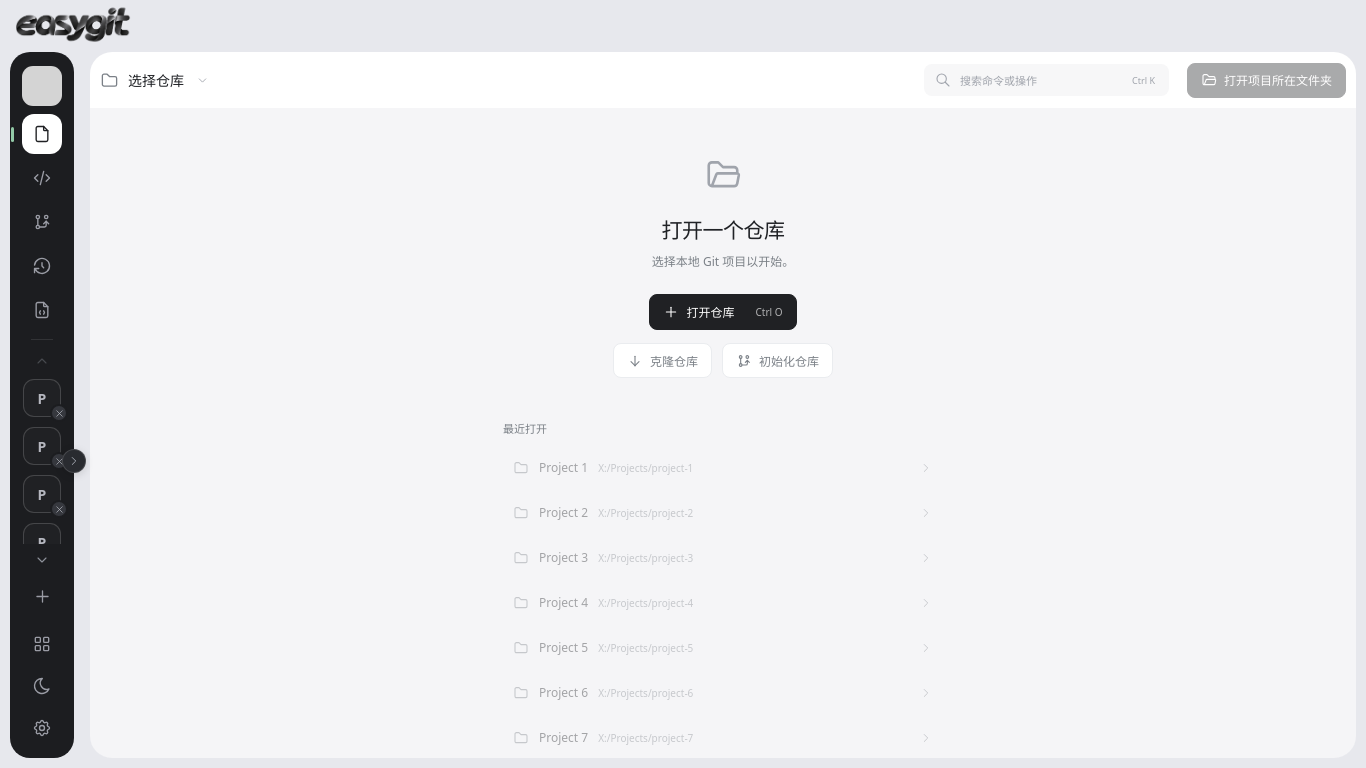
Test: 侧栏项目展开区域 › 支持 Escape、外部点击和重复点击按钮收起
Click the button named "展开项目列表": {"x": 74, "y": 460} [62, 448, 86, 472]
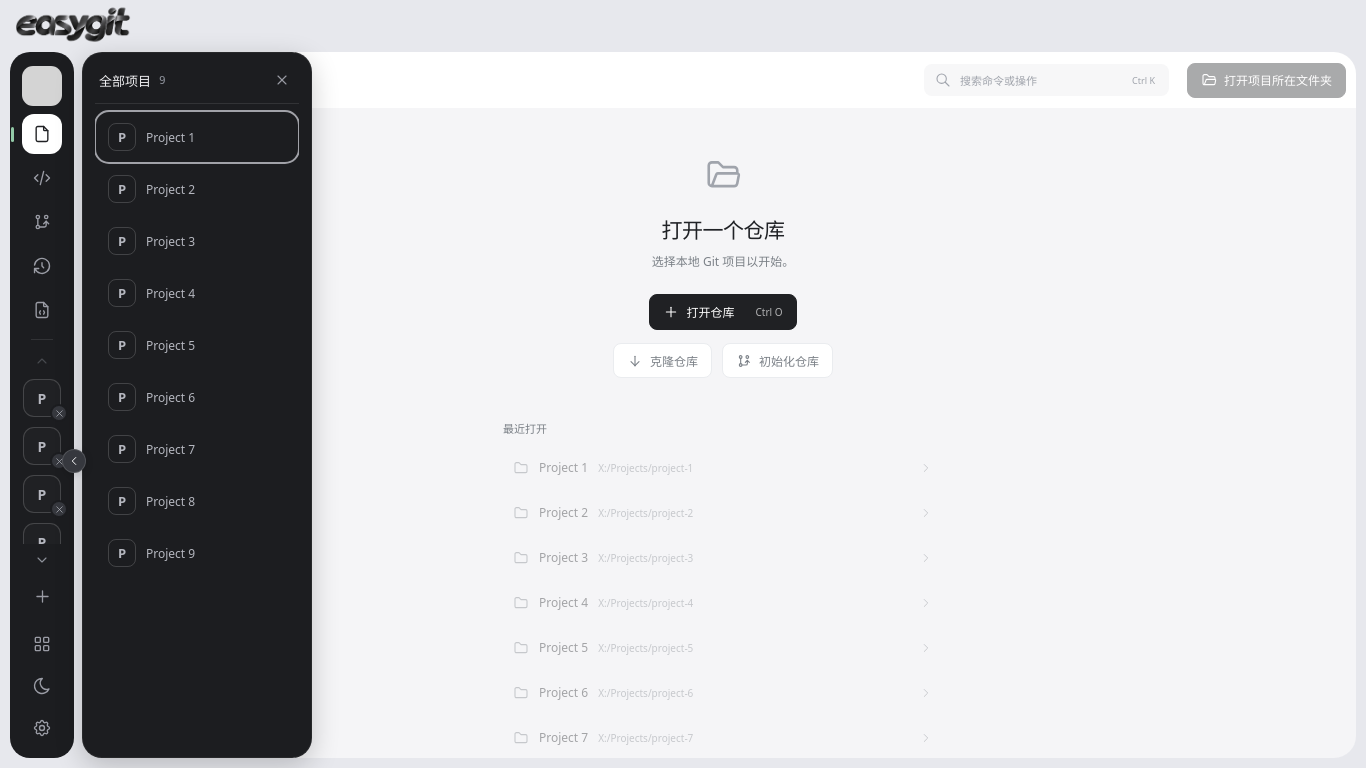
Press Escape in the button with class "repository-expanded-item" showing "P Project 1", box [98, 114, 296, 160]
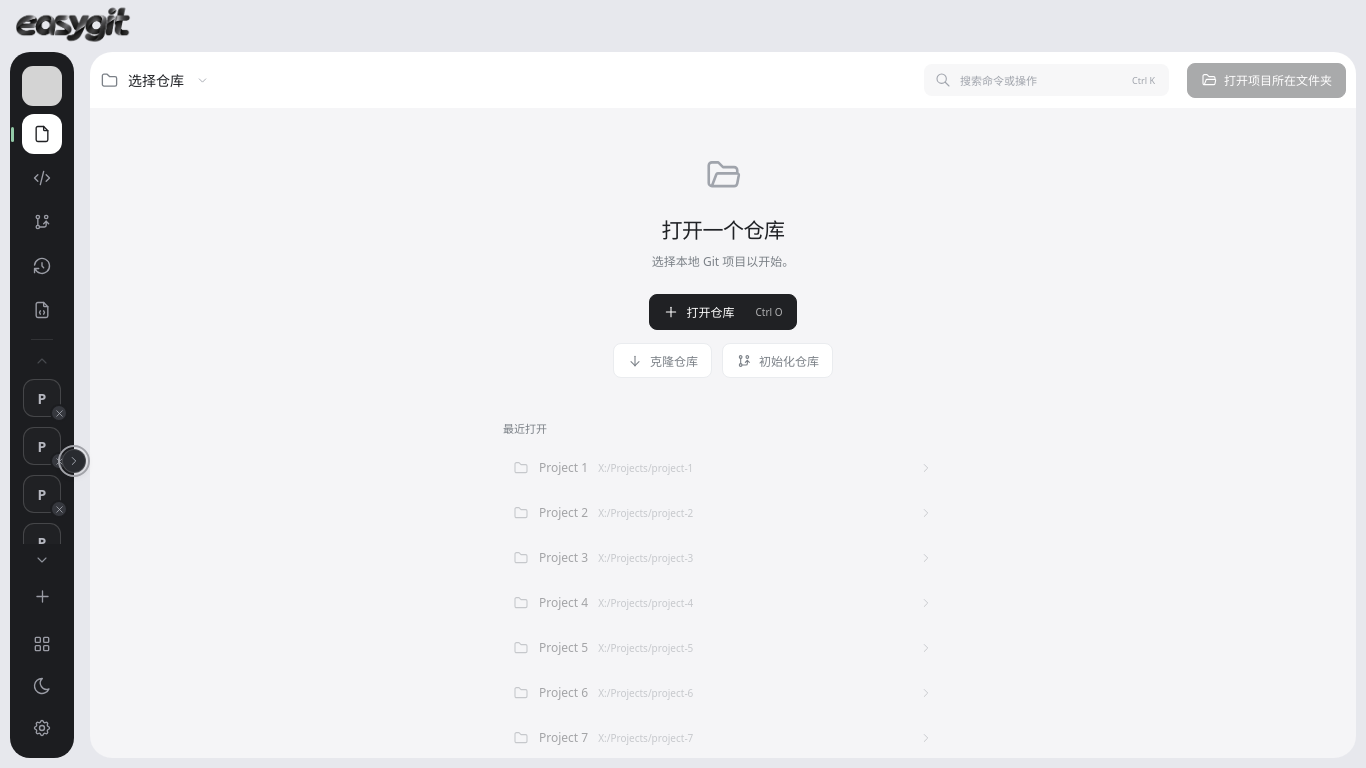
Expected: the element named "项目展开区域" is gone
Click the button named "展开项目列表": {"x": 74, "y": 460} [62, 448, 86, 472]
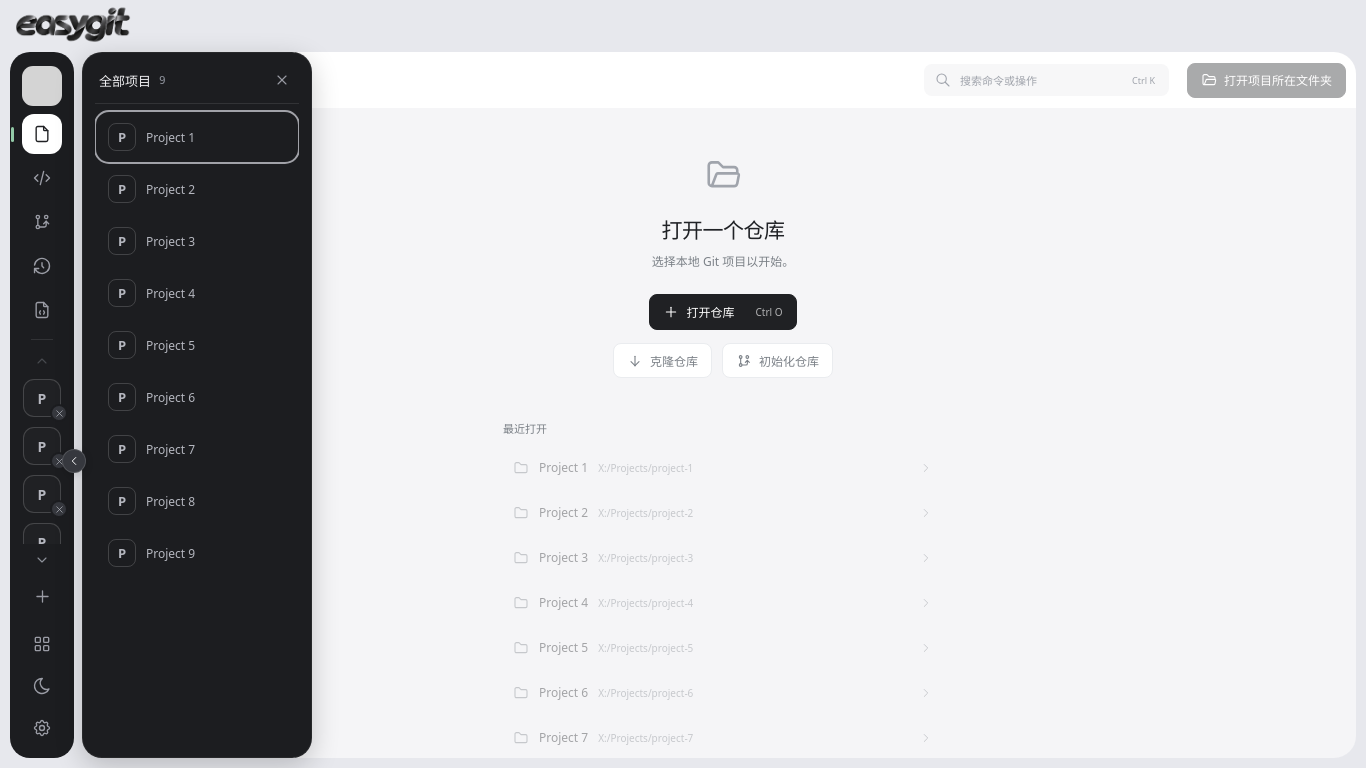
Press the mouse on the element with class "main-scroll": {"x": 723, "y": 405} [90, 52, 1356, 758]
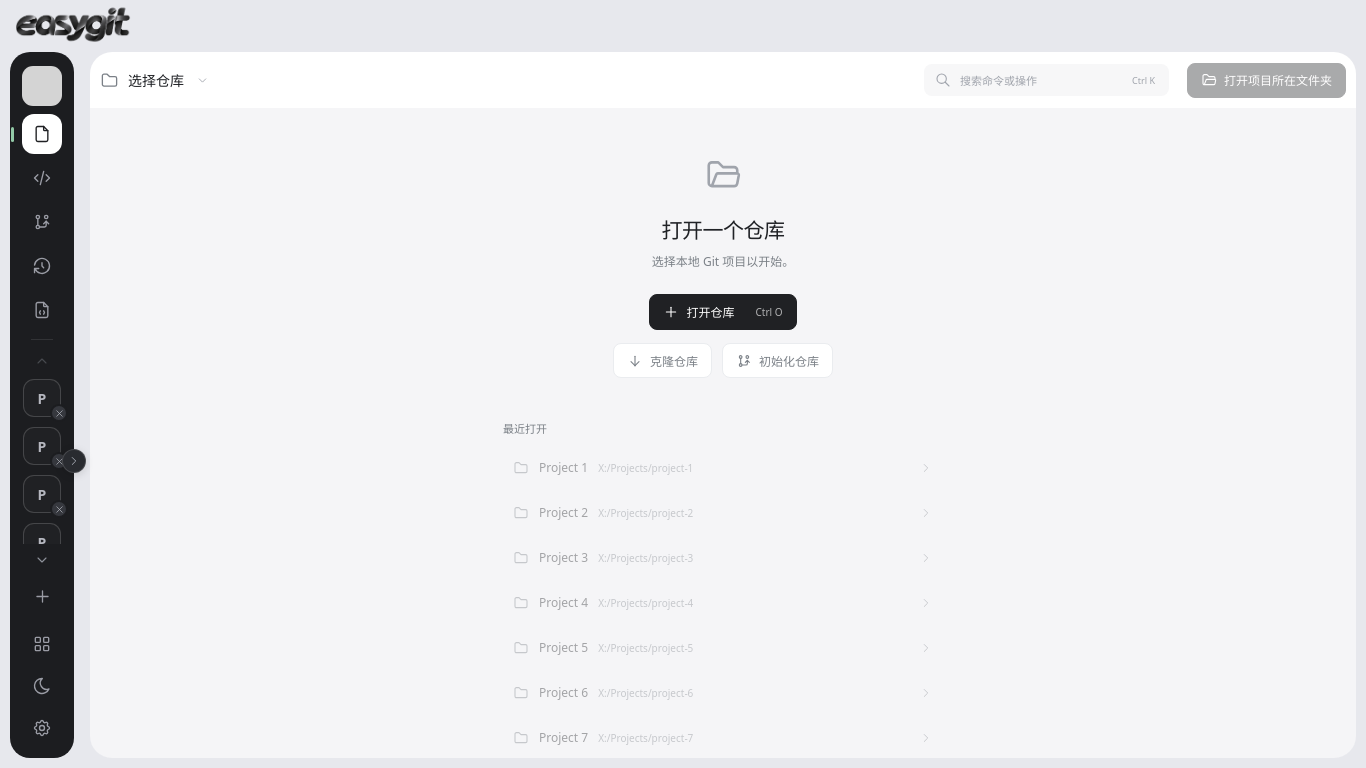
Expected: the element named "项目展开区域" is gone
Click the button named "展开项目列表": {"x": 74, "y": 460} [62, 448, 86, 472]
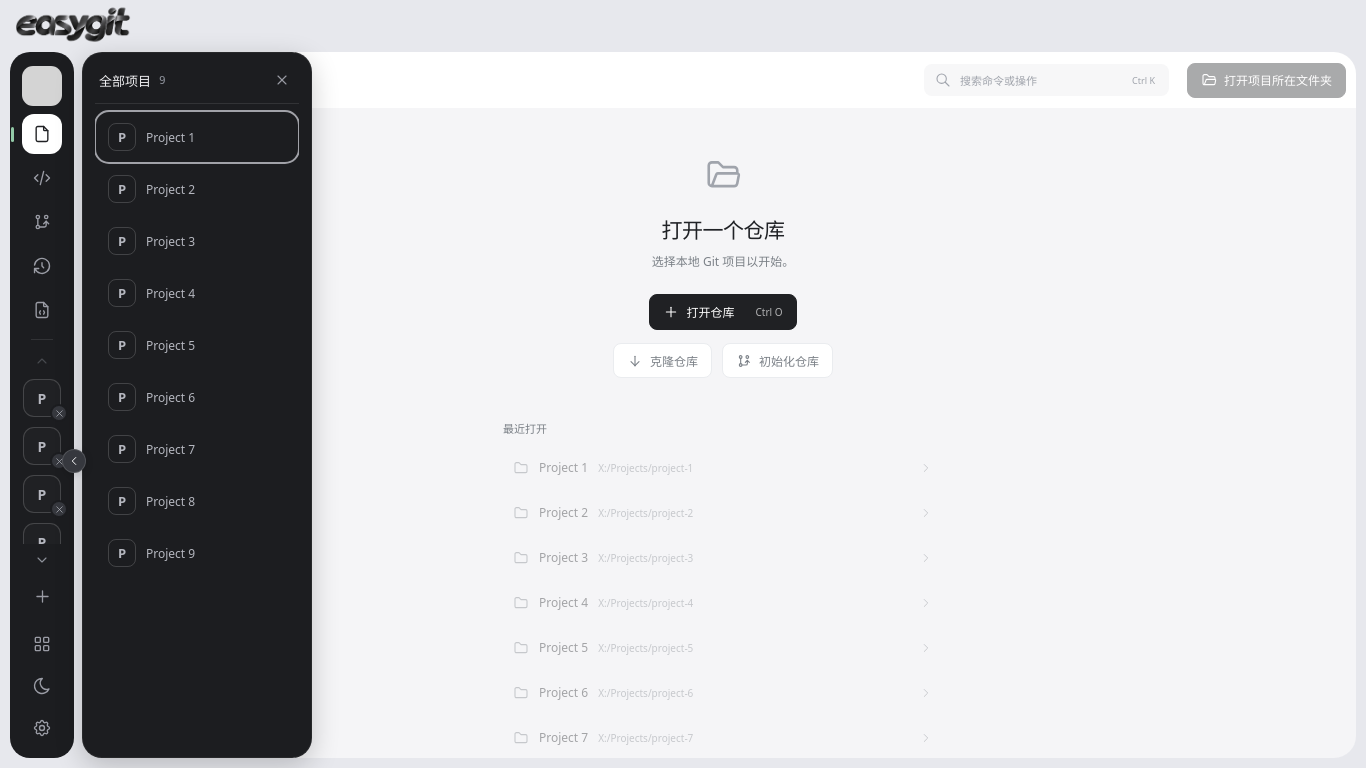
Click the button named "收起项目列表": {"x": 74, "y": 460} [62, 448, 86, 472]
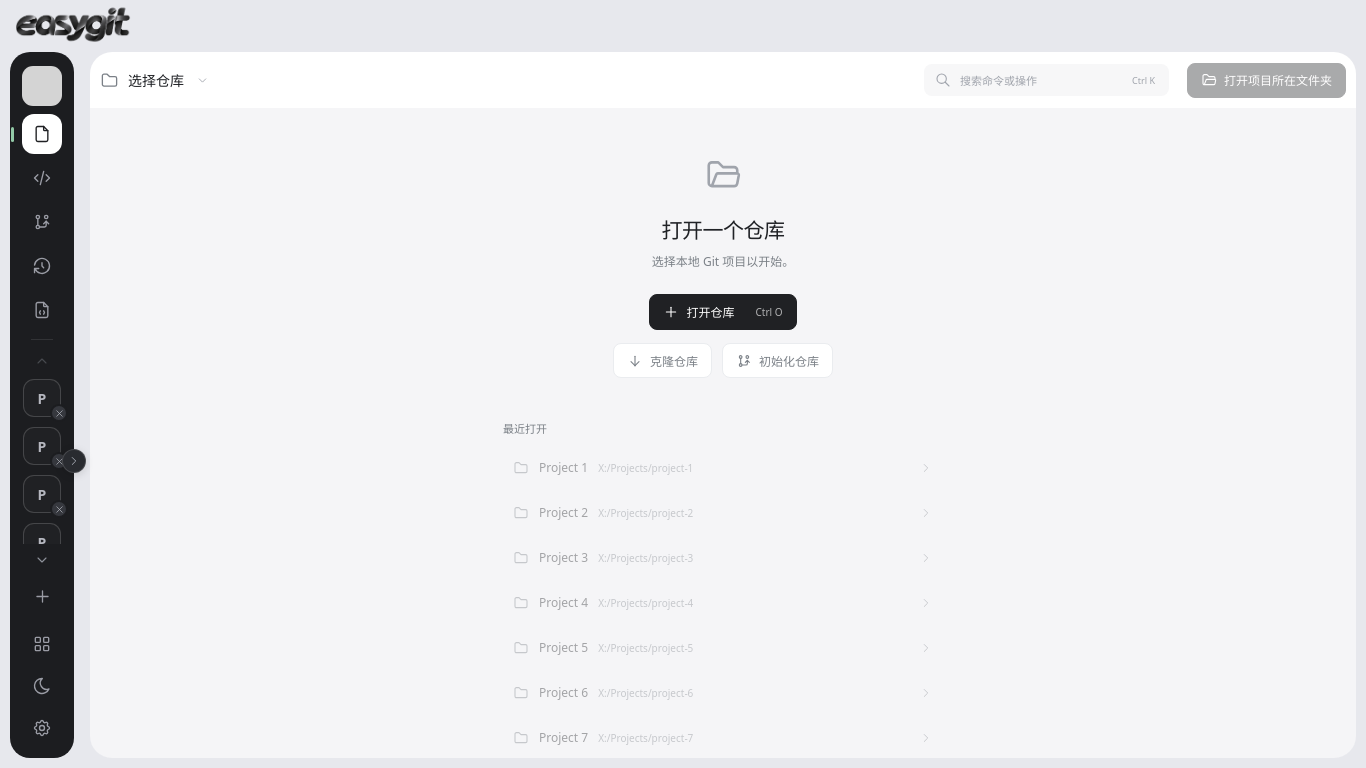
Expected: the element named "项目展开区域" is gone
